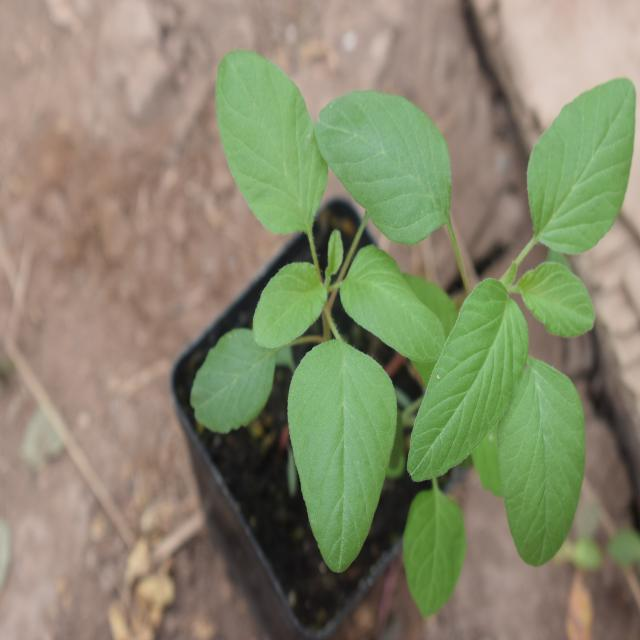pigweed: (351, 94, 625, 596), (196, 42, 410, 579)
